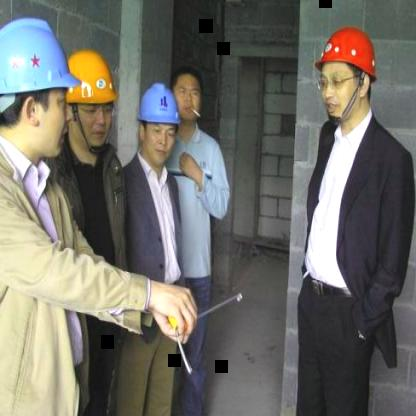head: (170, 61, 206, 121)
helmet: (0, 18, 72, 163), (314, 22, 378, 119), (65, 44, 115, 158), (130, 73, 184, 168)
